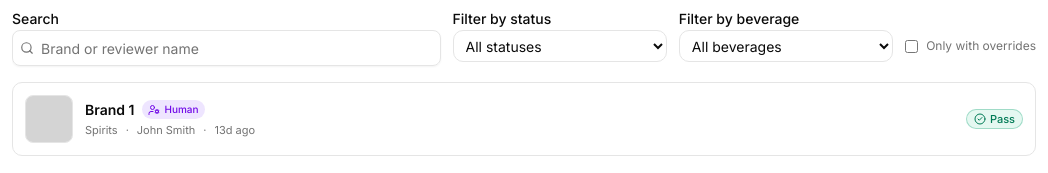
it: ReviewHistoryList › shows a 'no matches' state when filters exclude everything
Type "zzz-no-match-zzz" into the field labelled "Search".
click(226, 48); type("zzz-no-match-zzz")  # box 12,30 -> 441,66
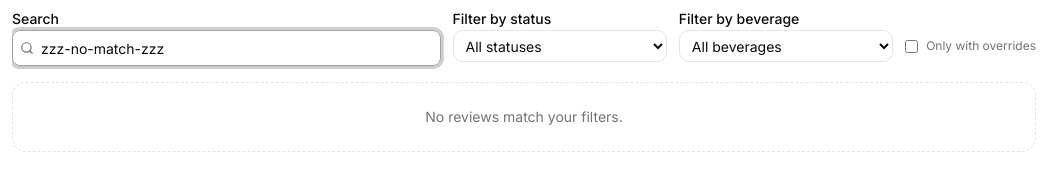
Expected: the text "No reviews match your filters." is shown, 12,82 -> 1036,152
